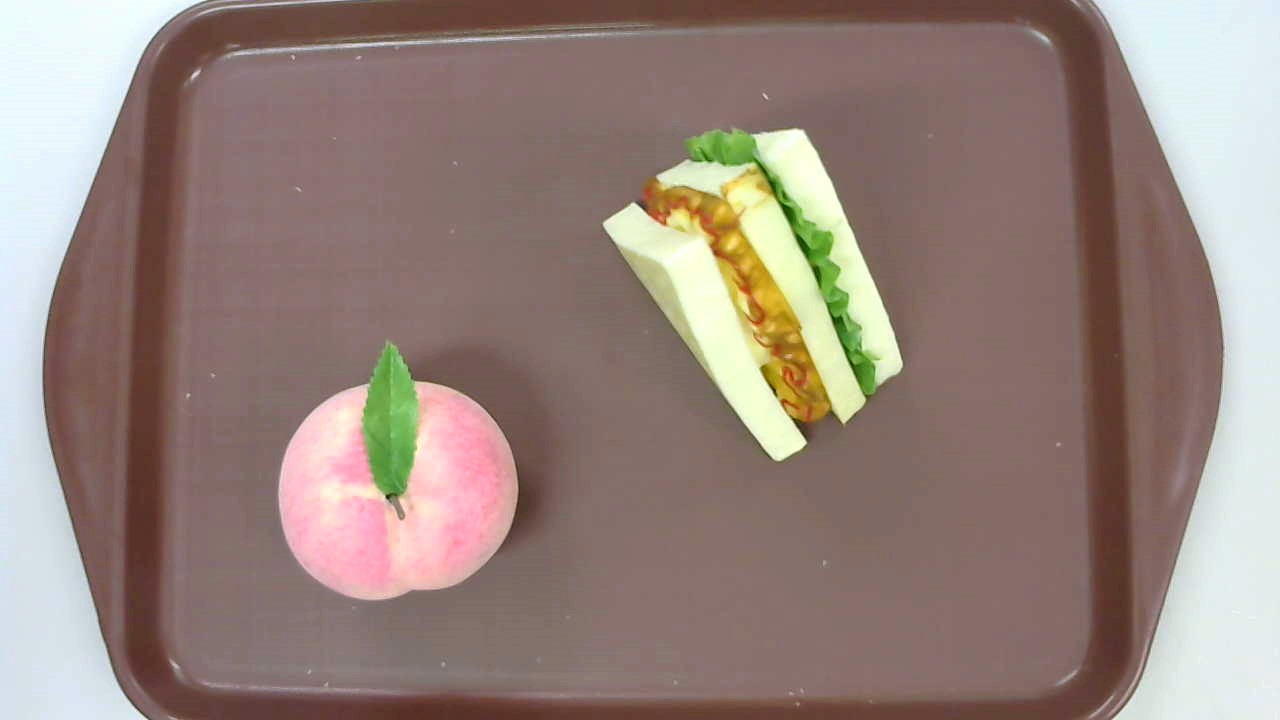peach: (278, 339, 520, 602)
sandwich: (601, 129, 905, 461)
